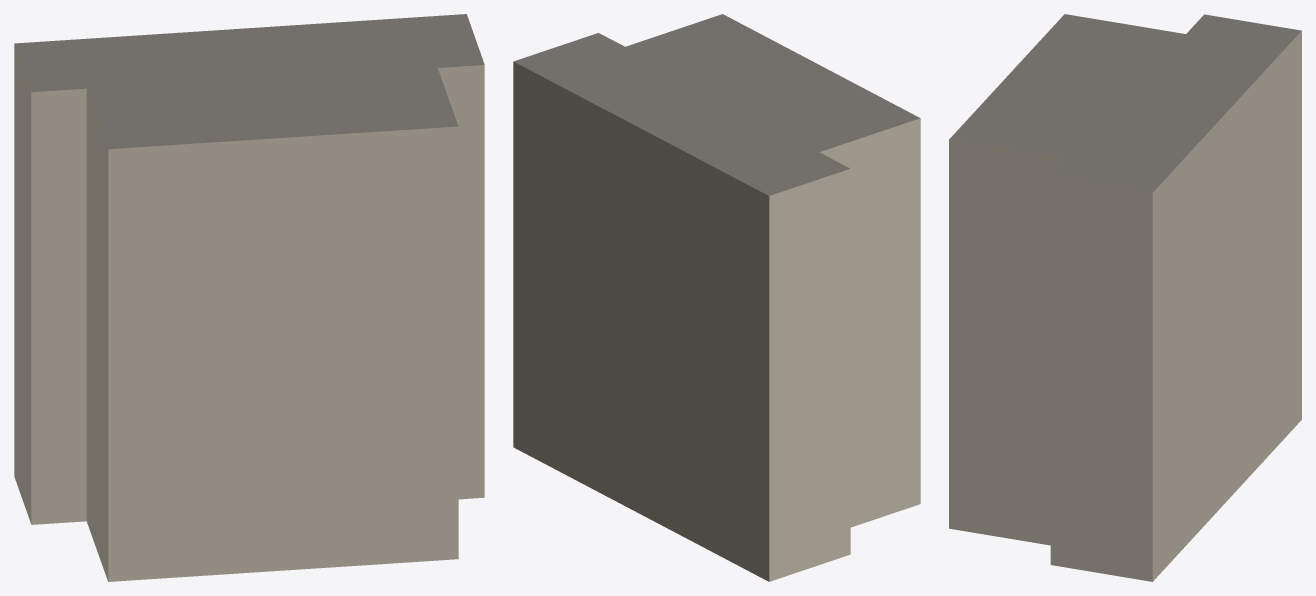
3 views of the same model, side by side, from view 1: azimuth 30°, elevation 25°; view 2: azimuth 150°, elevation 25°; view 3: azimuth 270°, elevation 25° (orthographic). The views are drawn at different scales.
Visible parts, largest first — view 1: HP-w177928803; view 2: HP-w177928803; view 3: HP-w177928803.
Part boxes in pixels (<box>): HP-w177928803: <box>14,14,484,581</box>; HP-w177928803: <box>513,14,920,581</box>; HP-w177928803: <box>949,14,1301,581</box>.
Size of the model in its own units: 17.74 by 18 by 14.79.
